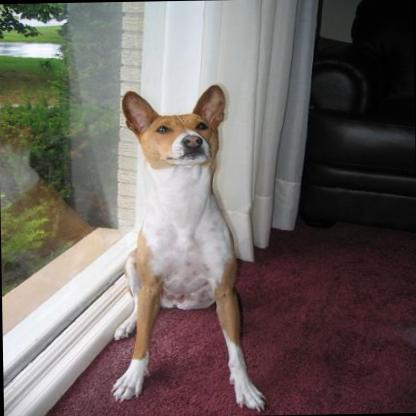basenji: (106, 80, 266, 416)
